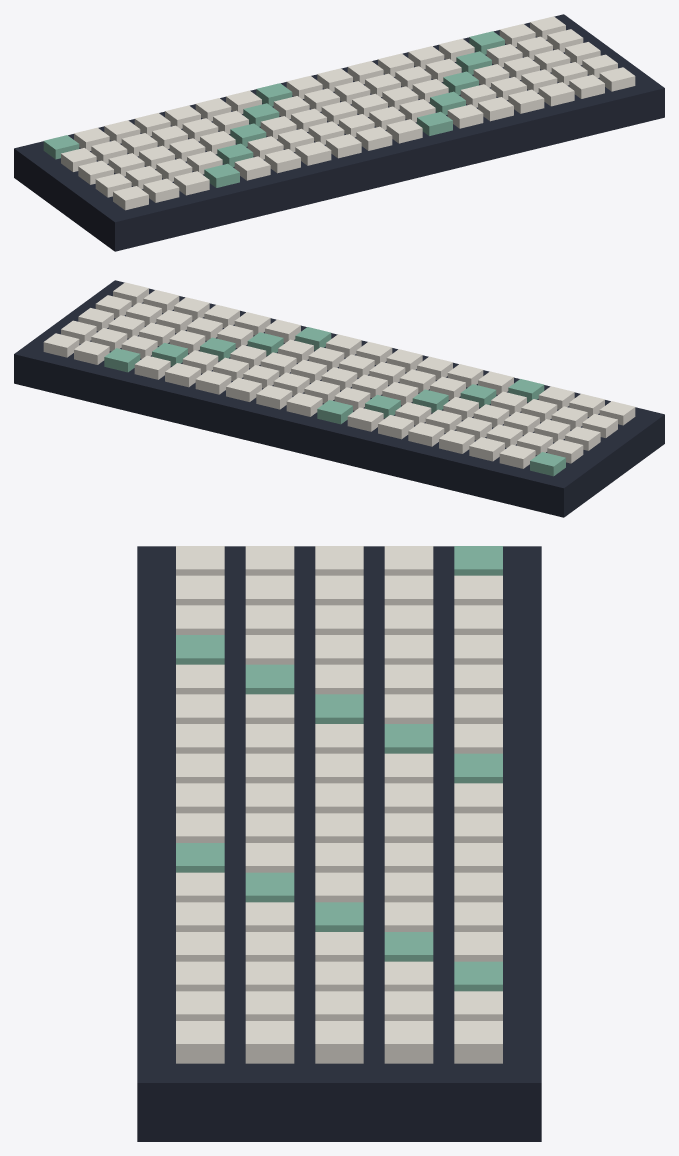
Rendered from keyboard-full.glb.
3 views of the same model, one above another, from view 1: azimuth 30°, elevation 25°; view 2: azimuth 150°, elevation 25°; view 3: azimuth 270°, elevation 25° (orthographic). The views are drawn at different scales.
Parts seen in each view (by area): view 1: keyboard-full; view 2: keyboard-full; view 3: keyboard-full.
Boxes of the visible parts, left/top/right/bottom form: keyboard-full: left=14, top=14, right=664, bottom=251; keyboard-full: left=14, top=280, right=664, bottom=517; keyboard-full: left=137, top=546, right=541, bottom=1141.
Bounding box in the file's own units: 44 × 3 × 14.
